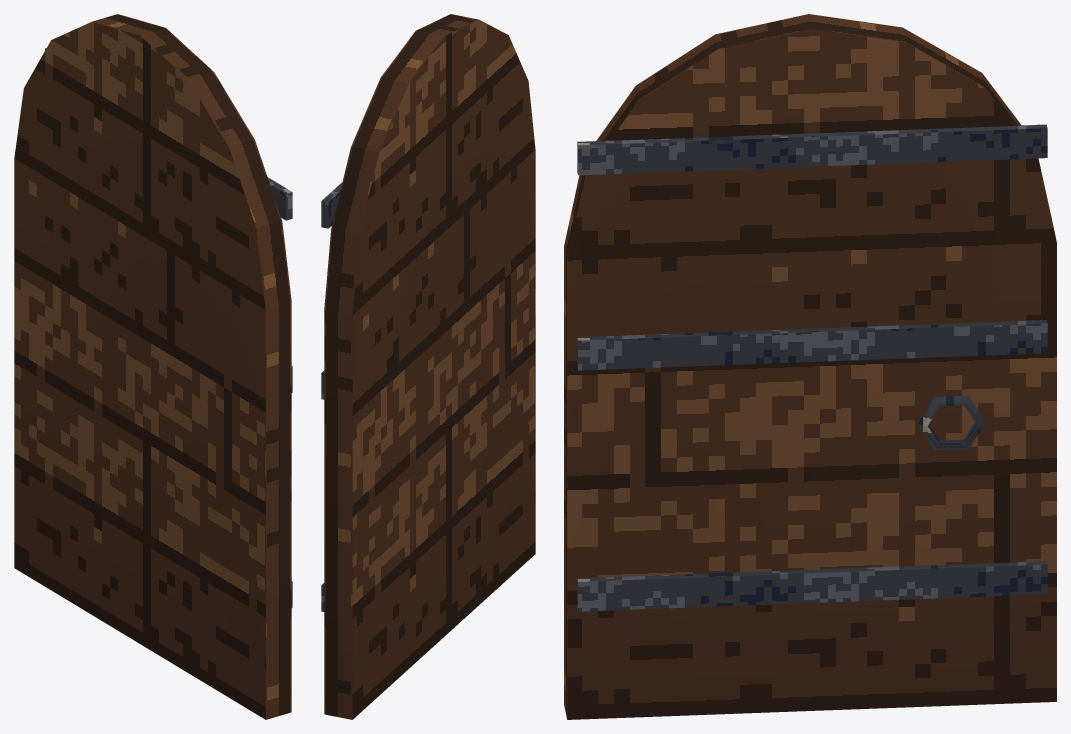
The model's file is dgn.door_locked__locked_open.glb.
3 views of the same model, side by side, from view 1: azimuth 30°, elevation 25°; view 2: azimuth 150°, elevation 25°; view 3: azimuth 270°, elevation 25° (orthographic). The views are drawn at different scales.
Parts seen in each view (by area): view 1: kit_leaf; view 2: kit_leaf; view 3: kit_leaf.
Part boxes in pixels (x1,y1,x2,y2): kit_leaf: (14, 14, 292, 719); kit_leaf: (321, 14, 535, 719); kit_leaf: (564, 14, 1056, 719).
Bounding box in the file's own units: 0.3374 × 2.97 × 1.94.
Materials: 2 (2 with a texture image).
